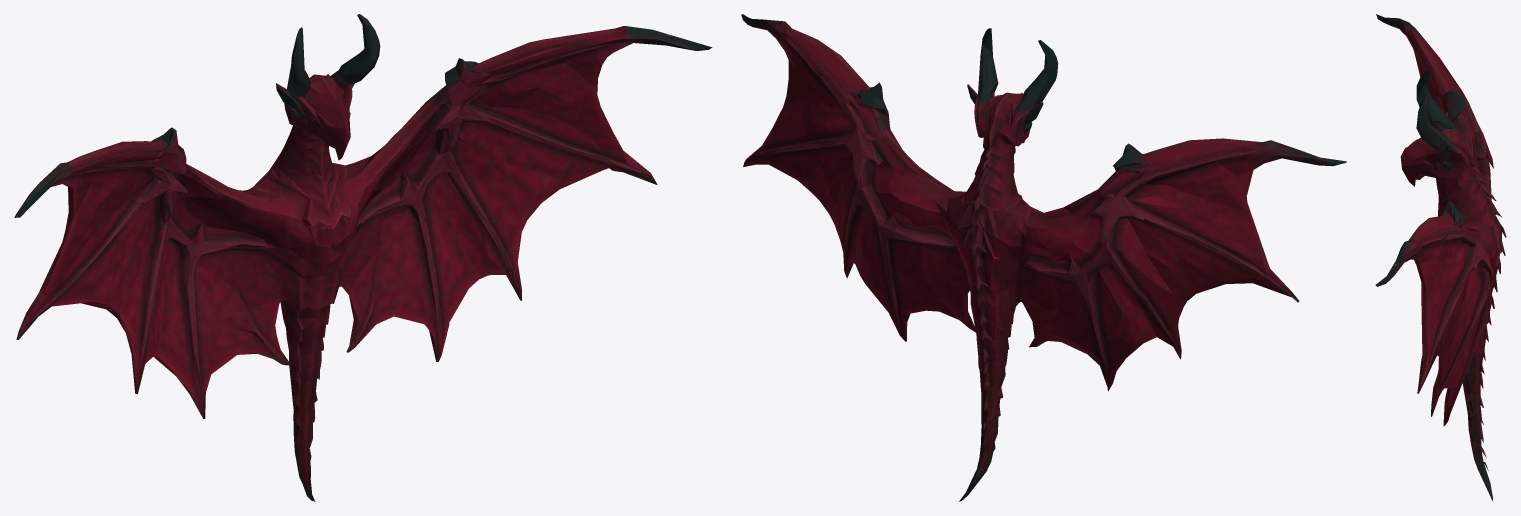
File: dragon_wings.glb
The picture shows the model from 3 angles, left to right: view 1: azimuth 30°, elevation 25°; view 2: azimuth 150°, elevation 25°; view 3: azimuth 270°, elevation 25°; orthographic projection. The views are drawn at different scales.
Size of the model in its own units: 1.9 by 1.35 by 0.3897.
1 material, 1 textured.
